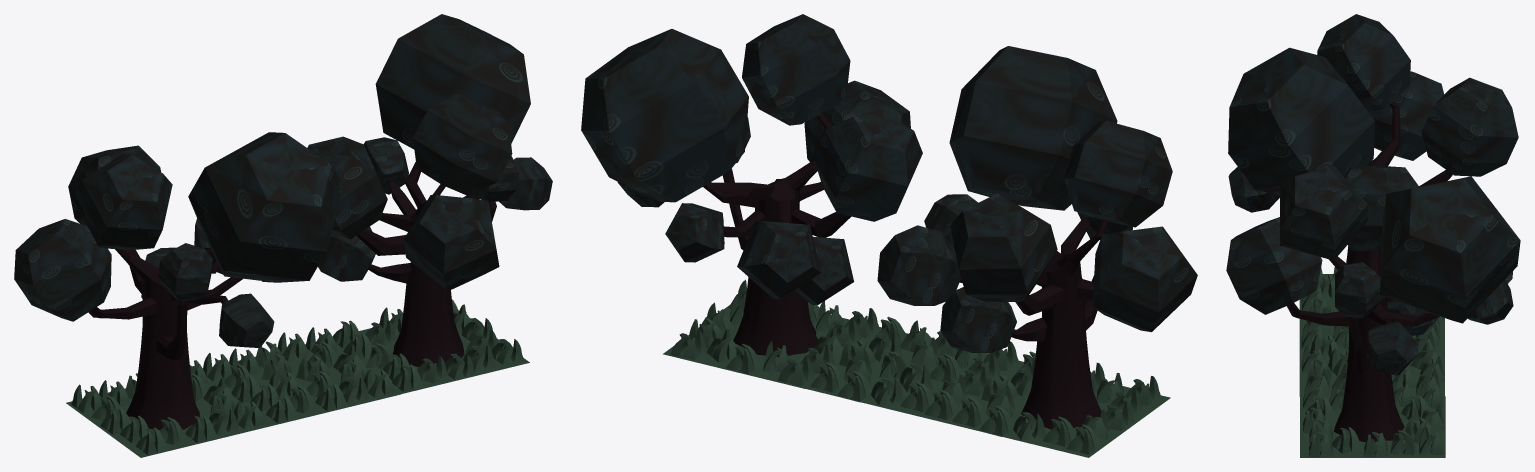
File: Cartoon Tree 1x2.fbx
The picture shows the model from 3 angles, left to right: view 1: azimuth 30°, elevation 25°; view 2: azimuth 150°, elevation 25°; view 3: azimuth 270°, elevation 25°; orthographic projection. The views are drawn at different scales.
Parts seen in each view (by area): view 1: polySurface74; view 2: polySurface74; view 3: polySurface74.
Part boxes in pixels (bbox=[...]): polySurface74: bbox=[14, 14, 552, 457]; polySurface74: bbox=[581, 14, 1197, 457]; polySurface74: bbox=[1226, 14, 1520, 457].
Bounding box in the file's own units: 297 × 157 × 150.
